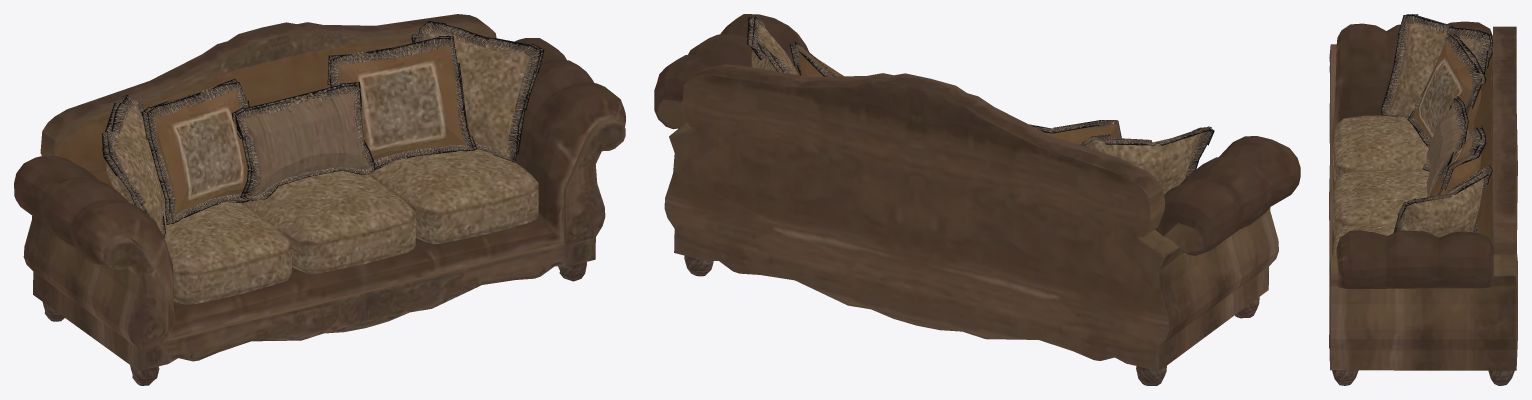
3 renders of one model, left to right at view 1: azimuth 30°, elevation 25°; view 2: azimuth 150°, elevation 25°; view 3: azimuth 270°, elevation 25°, orthographic. The views are drawn at different scales.
Visible parts, largest first — view 1: sofa_03; view 2: sofa_03; view 3: sofa_03.
Part boxes in pixels (x1=…): sofa_03: x1=14, y1=14, x2=625, y2=385; sofa_03: x1=654, y1=14, x2=1300, y2=385; sofa_03: x1=1329, y1=14, x2=1517, y2=385.
Bounding box in the file's own units: 2.73 × 1.12 × 0.925.
Materials: 2 (2 with a texture image).
